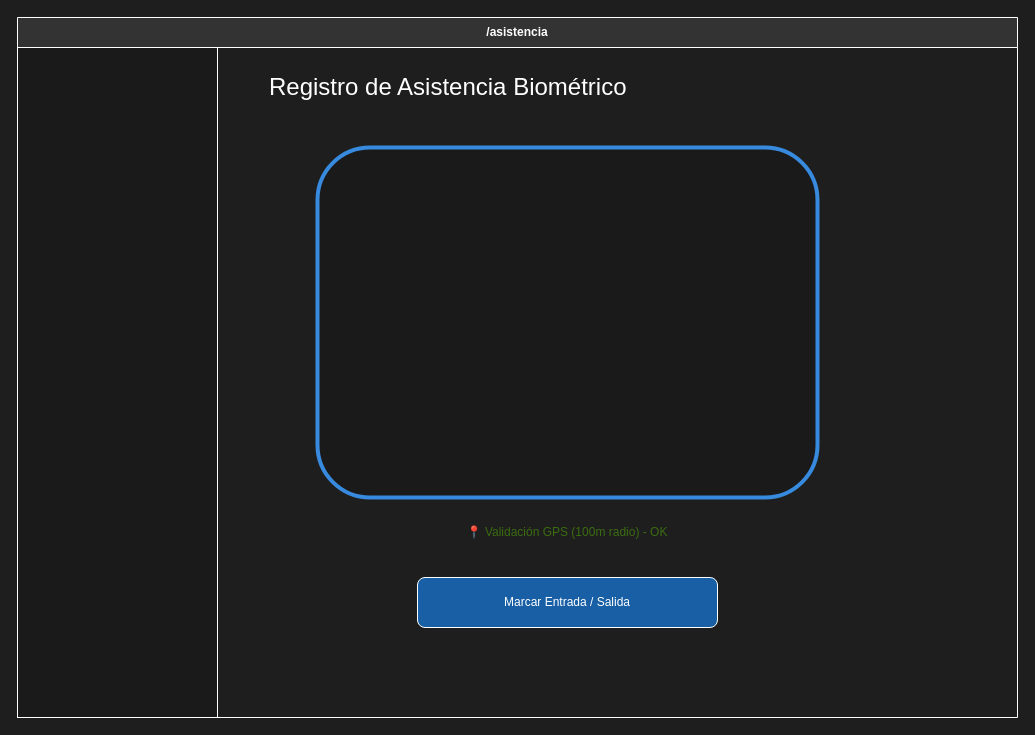
Image size: 1035x735. Some labels were removed from this diagram. The shapes that lost their labels are listed below. From the top down, each one's centre as x and y in pixels, then its label:
(567,322): Video Feed (face-api.js) 👤 Analizando rostro...
(117,382): Menú Lateral - Empleados - Asistencia - Nómina - Reportes - Config
